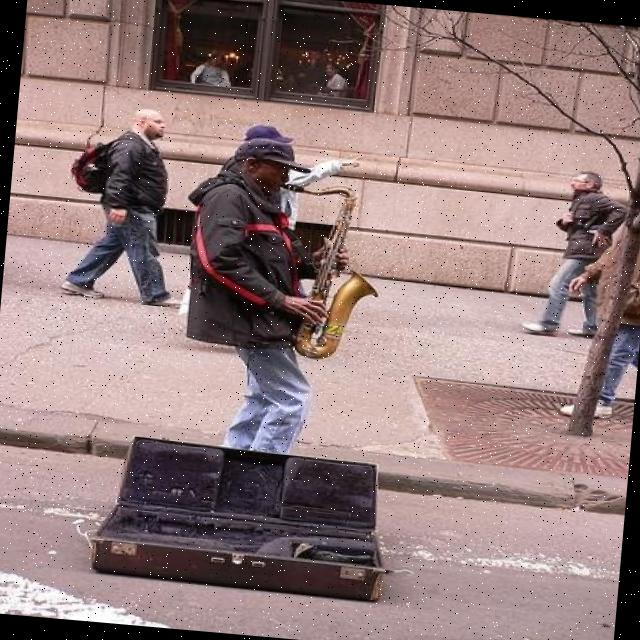saxophone: (264, 176, 394, 369)
